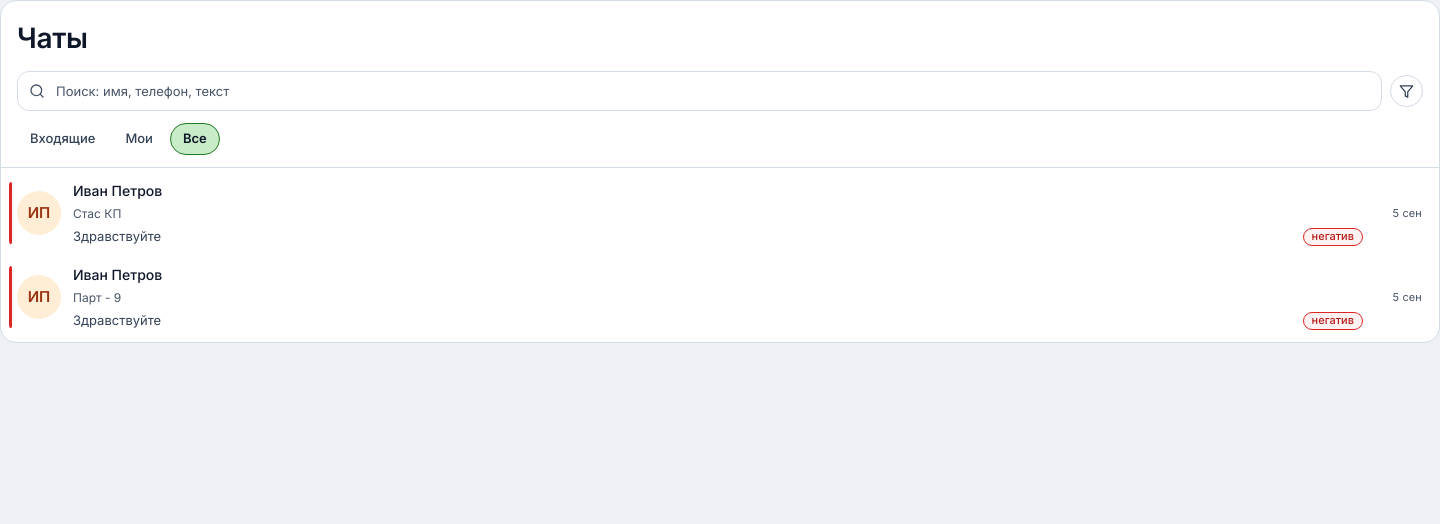
Набор полей фильтра по вкладкам › без права `stats:all` ответственного нет, а состояние есть
What coordinates should you click on to do the following:
click the button named "Фильтры"
I would click on:
 (1406, 91)
Its box is x1=1390 y1=75 x2=1423 y2=107.
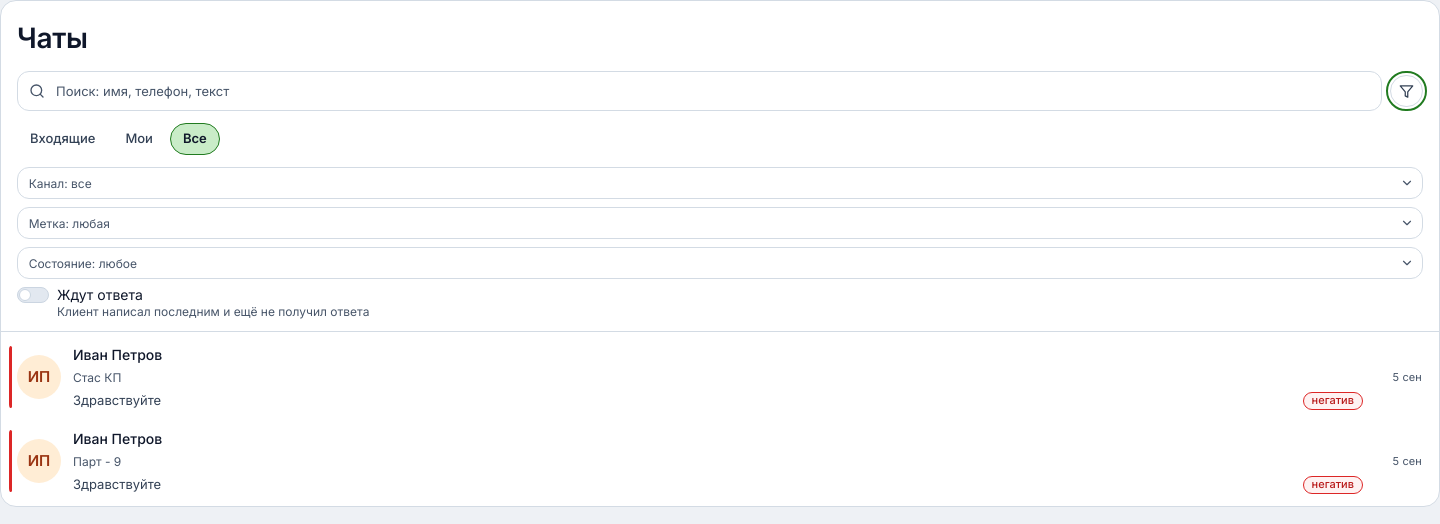
Expected: the field named "Фильтр по состоянию" is shown, x1=17 y1=247 x2=1423 y2=279
